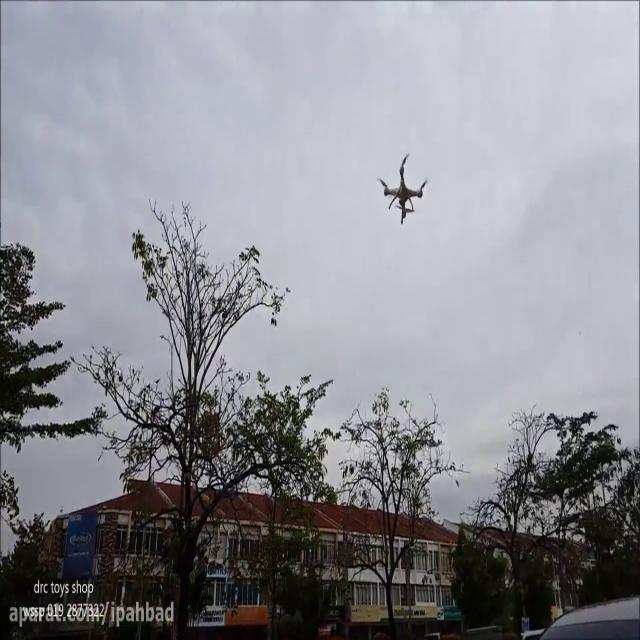drone: (376, 150, 430, 226)
